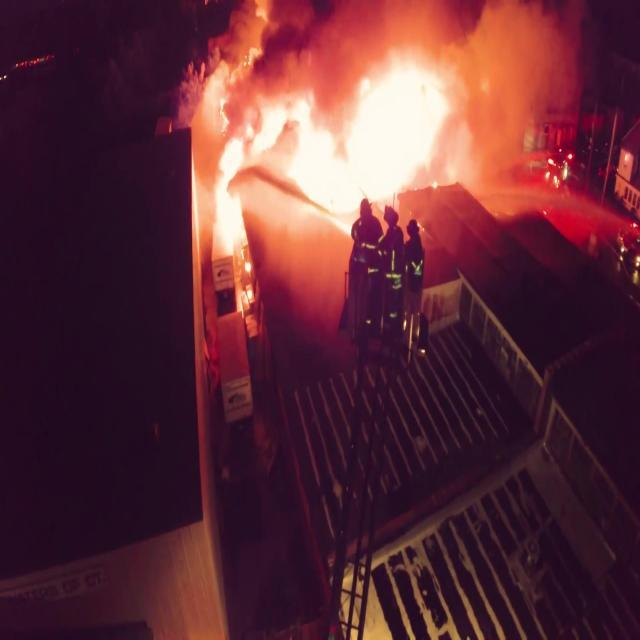Fire: (212, 85, 445, 254)
Smoke: (182, 0, 582, 233)
